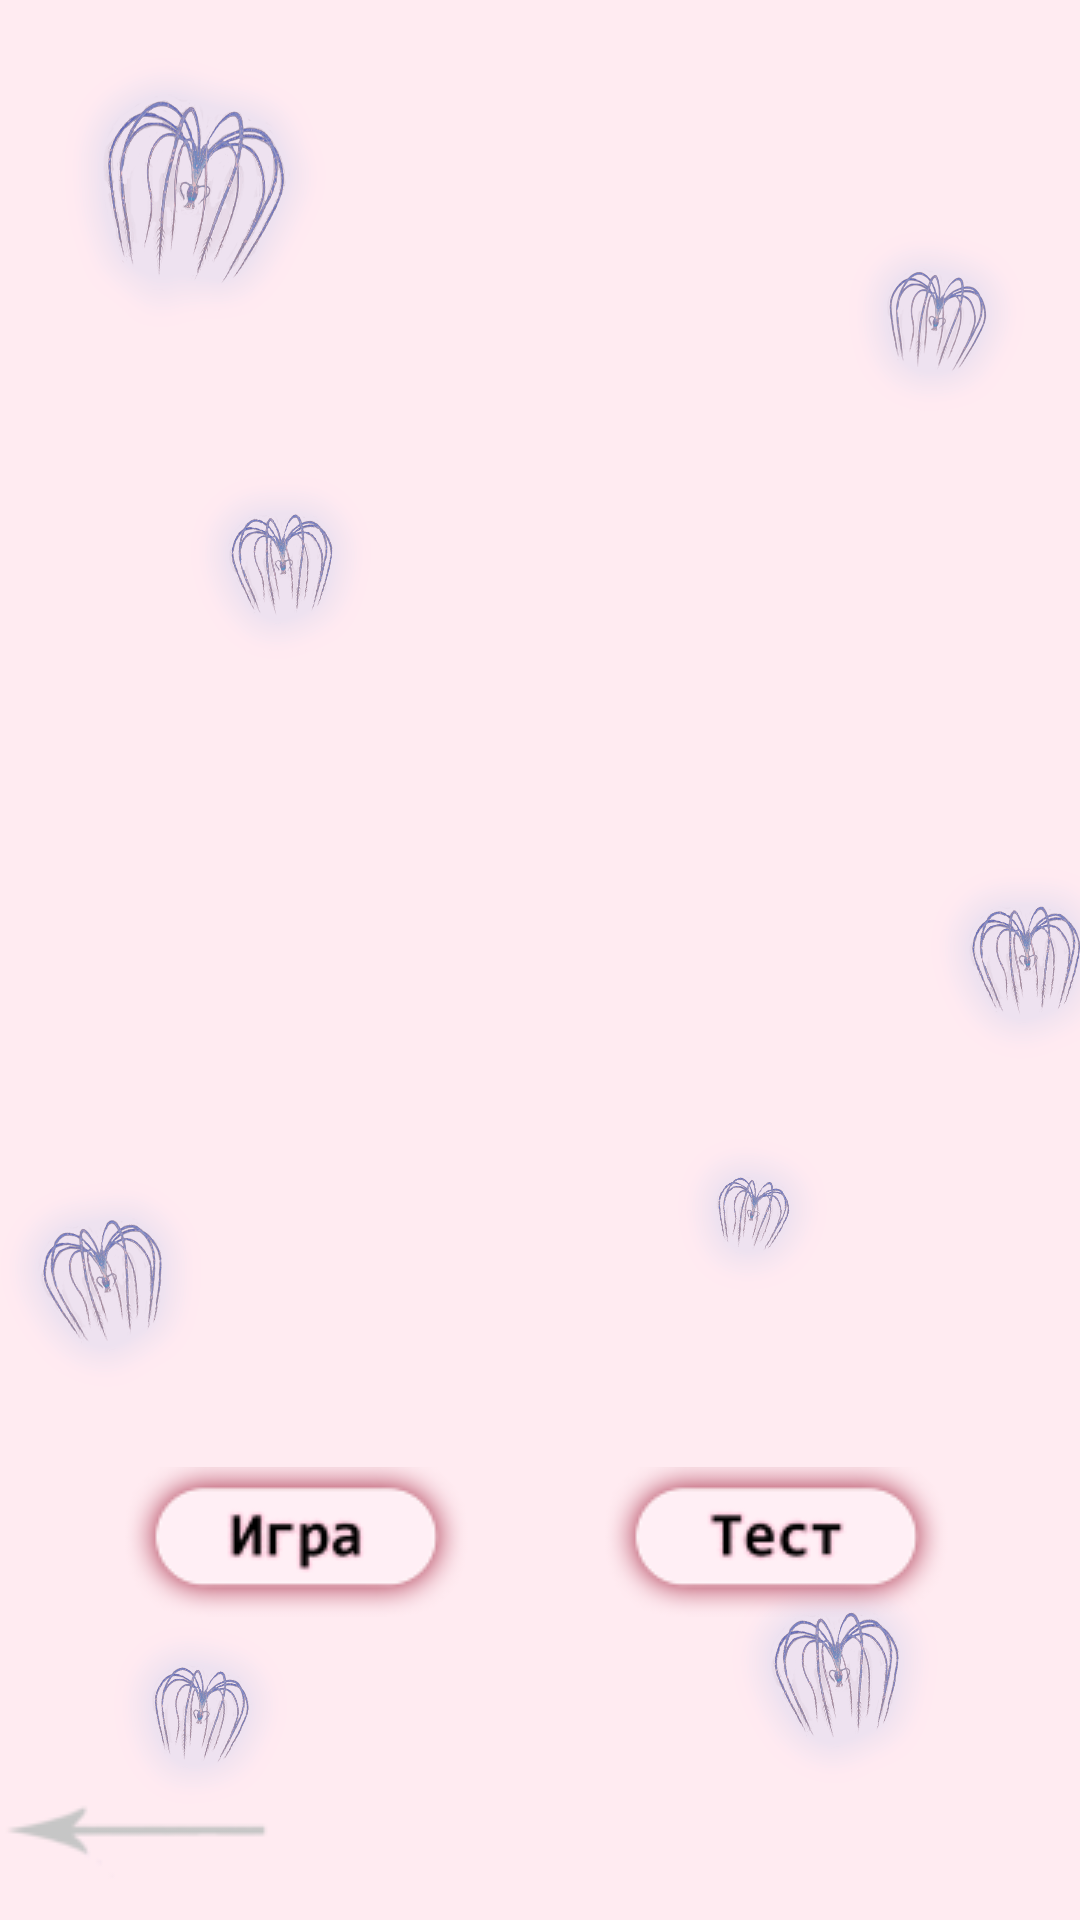

Icon bounding boxes for this 1080 x 1920 phone screenshot, format (x1, y1, x2, y2):
back: (13, 1808, 265, 1853)
